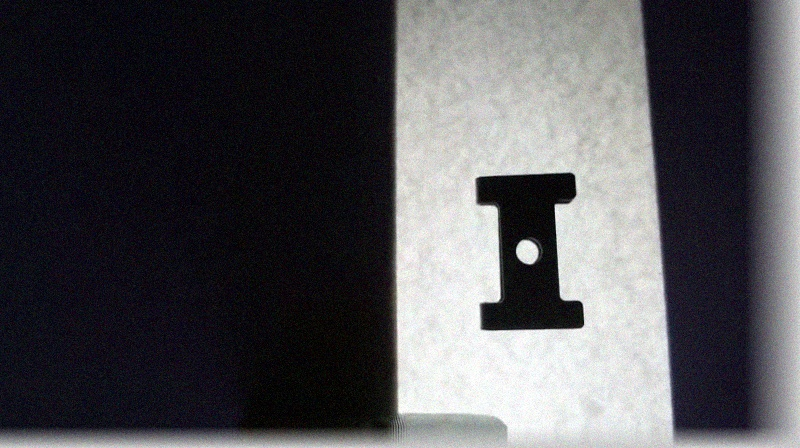O002: (470, 168, 592, 333)
